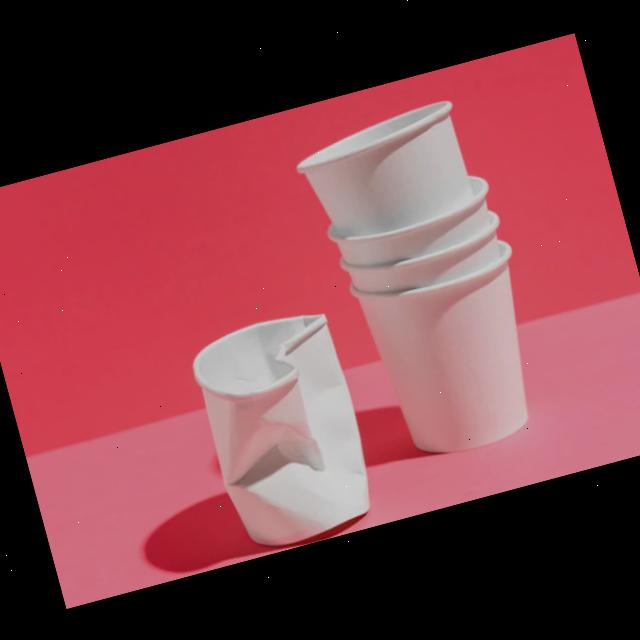trash: (183, 300, 384, 558)
